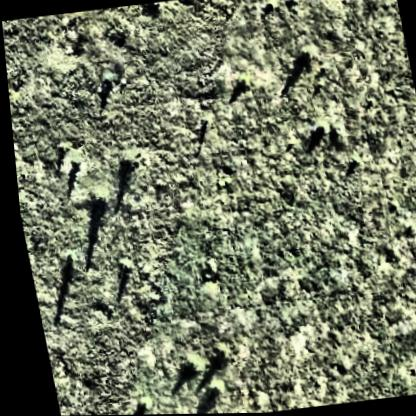tree-top: (293, 48, 317, 74), (195, 377, 220, 401), (82, 188, 108, 210), (173, 355, 197, 377), (106, 255, 132, 275), (203, 343, 223, 366), (308, 119, 328, 142), (127, 395, 147, 415), (97, 71, 117, 91), (52, 249, 72, 267)
